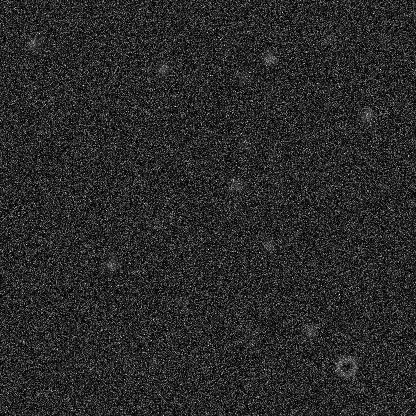Ring: (334, 354, 358, 378)
Spot: (237, 135, 253, 151), (154, 60, 170, 76), (145, 353, 161, 369), (31, 29, 47, 45), (242, 326, 258, 342), (373, 30, 389, 46), (177, 299, 193, 315), (318, 31, 334, 47), (102, 256, 118, 272), (228, 176, 244, 192), (152, 214, 168, 230), (301, 322, 317, 338), (235, 70, 251, 86), (260, 237, 276, 253), (261, 50, 277, 66), (23, 36, 39, 52), (359, 107, 375, 123)
